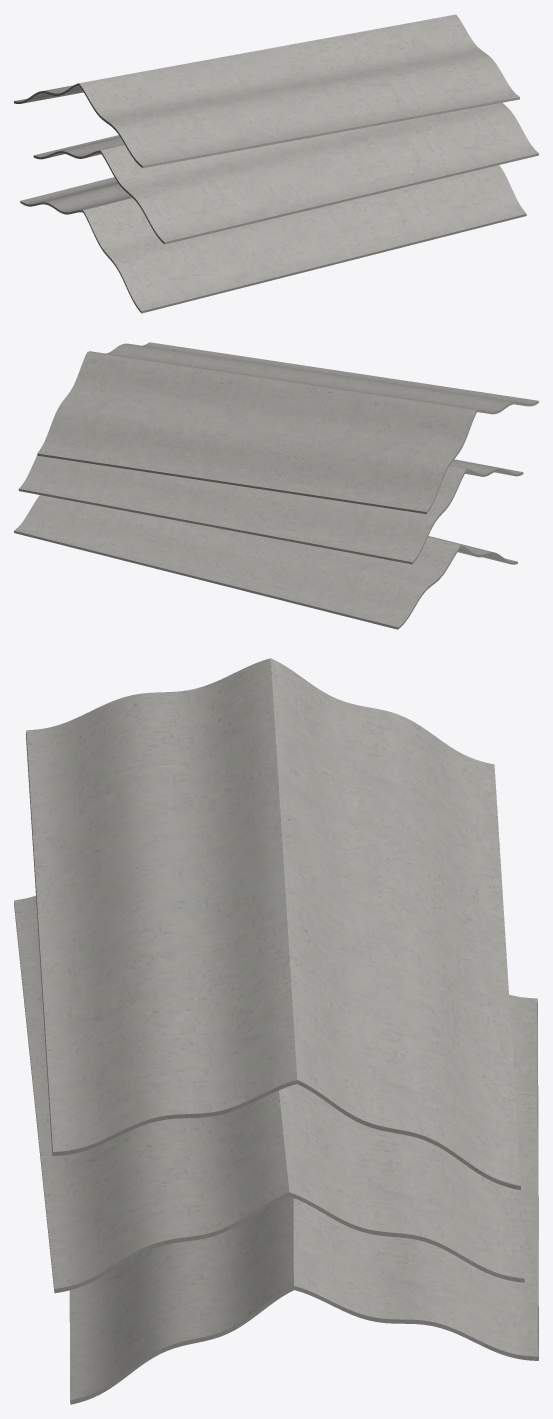
File: COB-CUM-002_anim.glb
3 renders of one model, top to bottom at view 1: azimuth 30°, elevation 25°; view 2: azimuth 150°, elevation 25°; view 3: azimuth 270°, elevation 25°, orthographic. The views are drawn at different scales.
Parts seen in each view (by area): view 1: COB-CUM-002_anim2, COB-CUM-002_anim1, COB-CUM-002_anim0; view 2: COB-CUM-002_anim2, COB-CUM-002_anim0, COB-CUM-002_anim1; view 3: COB-CUM-002_anim2, COB-CUM-002_anim1, COB-CUM-002_anim0.
Part boxes in pixels (x1=…): COB-CUM-002_anim2: x1=14, y1=14, x2=519, y2=167; COB-CUM-002_anim1: x1=33, y1=102, x2=538, y2=244; COB-CUM-002_anim0: x1=20, y1=165, x2=526, y2=313; COB-CUM-002_anim2: x1=37, y1=342, x2=538, y2=513; COB-CUM-002_anim0: x1=14, y1=495, x2=517, y2=629; COB-CUM-002_anim1: x1=18, y1=455, x2=523, y2=564; COB-CUM-002_anim2: x1=25, y1=658, x2=521, y2=1190; COB-CUM-002_anim1: x1=14, y1=895, x2=524, y2=1293; COB-CUM-002_anim0: x1=69, y1=994, x2=538, y2=1404.
Size of the model in its own units: 1.18 by 0.5317 by 0.6689.
Materials: 1 (1 with a texture image).
